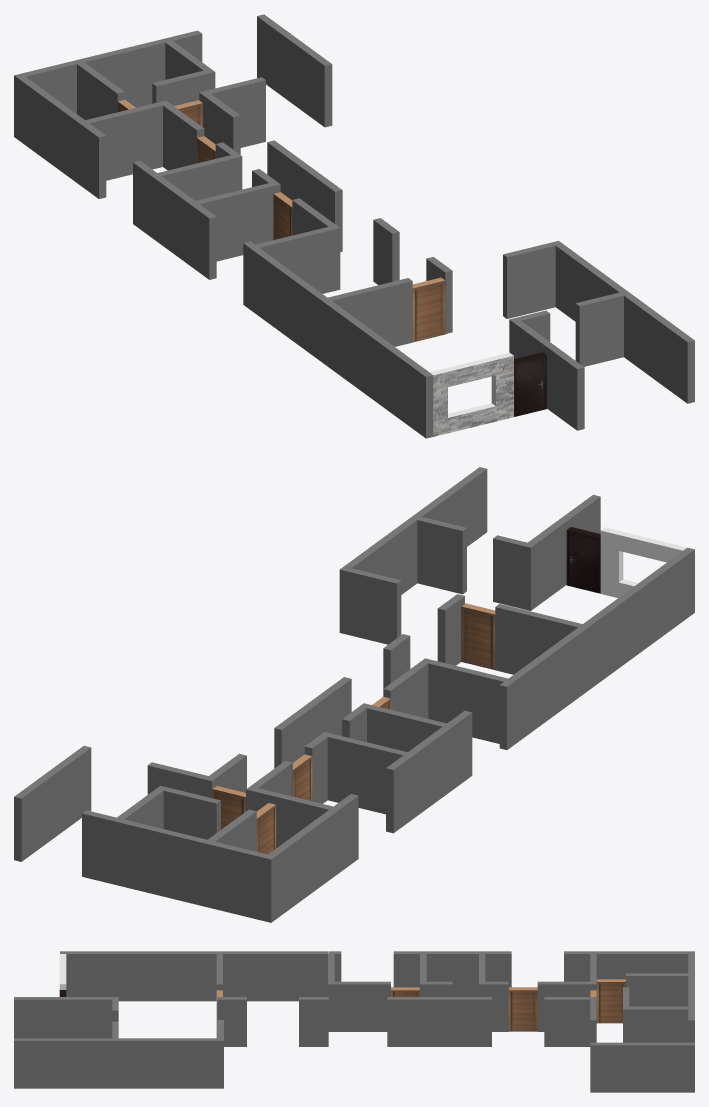
File: Prueba1.obj
3 renders of one model, top to bottom at view 1: azimuth 30°, elevation 25°; view 2: azimuth 150°, elevation 25°; view 3: azimuth 270°, elevation 25°, orthographic. The views are drawn at different scales.
Visible parts, largest first — view 1: pCube37, pCube9, pCube30, pCube44, pCube17, pCube4, pCube1, pCube5, pCube43, pCube36, pCube25, pCube31 (+26 smaller); view 2: pCube5, pCube37, pCube9, pCube30, pCube2, pCube15, pCube1, pCube25, pCube36, pCube43, pCube31, pCube27 (+30 smaller); view 3: pCube37, pCube9, pCube44, pCube27, pCube30, pCube43, pCube52, pCube45, pCube7, pCube46, pCube26, pCube1 (+22 smaller).
Boxes of the visible parts, <box> form: pCube37: <box>324,300,433,438</box>; pCube9: <box>257,14,332,127</box>; pCube30: <box>252,248,330,363</box>; pCube44: <box>620,291,694,403</box>; pCube17: <box>188,181,280,266</box>; pCube4: <box>77,100,169,186</box>; pCube1: <box>18,76,84,183</box>; pCube5: <box>80,30,202,107</box>; pCube43: <box>509,317,584,430</box>; pCube36: <box>503,241,562,318</box>; pCube25: <box>255,225,340,293</box>; pCube31: <box>328,278,412,346</box>; pCube5: <box>82,810,206,906</box>; pCube37: <box>583,547,694,689</box>; pCube9: <box>14,745,91,861</box>; pCube30: <box>509,624,589,743</box>; pCube2: <box>203,840,275,922</box>; pCube15: <box>320,732,415,820</box>; pCube1: <box>268,810,336,919</box>; pCube25: <box>421,658,507,743</box>; pCube36: <box>339,566,401,644</box>; pCube43: <box>523,494,600,610</box>; pCube31: <box>495,604,582,674</box>; pCube27: <box>274,677,351,768</box>; pCube37: <box>60,951,216,1001</box>; pCube9: <box>590,1042,694,1092</box>; pCube44: <box>14,1038,118,1088</box>; pCube27: <box>387,997,491,1046</box>; pCube30: <box>217,951,327,1001</box>; pCube43: <box>14,997,118,1038</box>; pCube52: <box>334,981,390,1031</box>; pCube45: <box>118,1038,170,1088</box>; pCube7: <box>623,1006,688,1042</box>; pCube46: <box>171,1038,217,1088</box>; pCube26: <box>544,997,596,1046</box>; pCube1: <box>596,951,688,979</box>.
Bounding box in the file's own units: 4.25 × 1 × 13.
